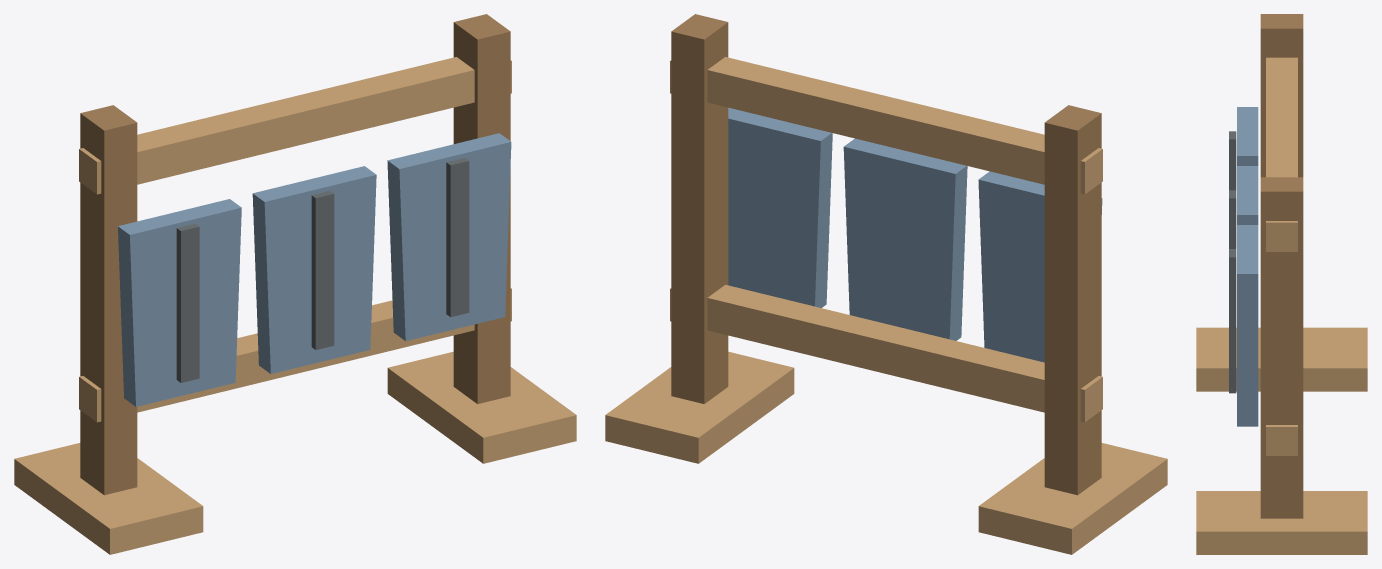
The model's file is shield-rack.glb.
3 renders of one model, left to right at view 1: azimuth 30°, elevation 25°; view 2: azimuth 150°, elevation 25°; view 3: azimuth 270°, elevation 25°, orthographic. The views are drawn at different scales.
Parts seen in each view (by area): view 1: shield-rack; view 2: shield-rack; view 3: shield-rack.
Boxes of the visible parts, bbox=[...] form: shield-rack: bbox=[14, 14, 576, 554]; shield-rack: bbox=[605, 14, 1167, 554]; shield-rack: bbox=[1196, 14, 1367, 554].
Size of the model in its own units: 2.25 by 1.8 by 0.7999.
